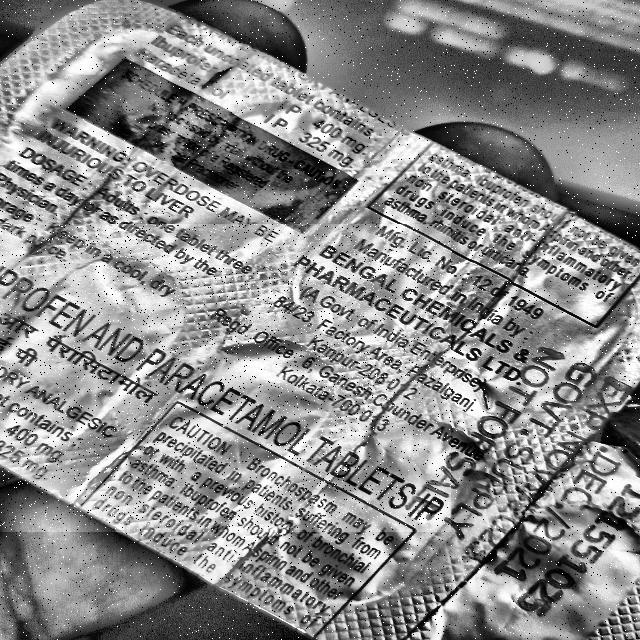IBUPROFEN AND PARACETAMOL TABLETS: (0, 224, 451, 531)
